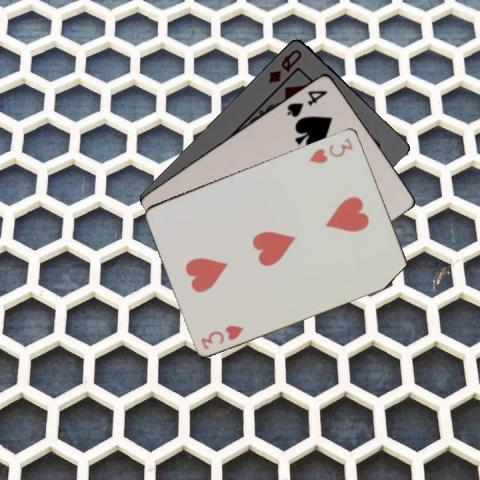3h: (306, 134, 355, 164), (198, 321, 245, 351)
4s: (284, 87, 330, 118)
Qd: (265, 45, 303, 84)
